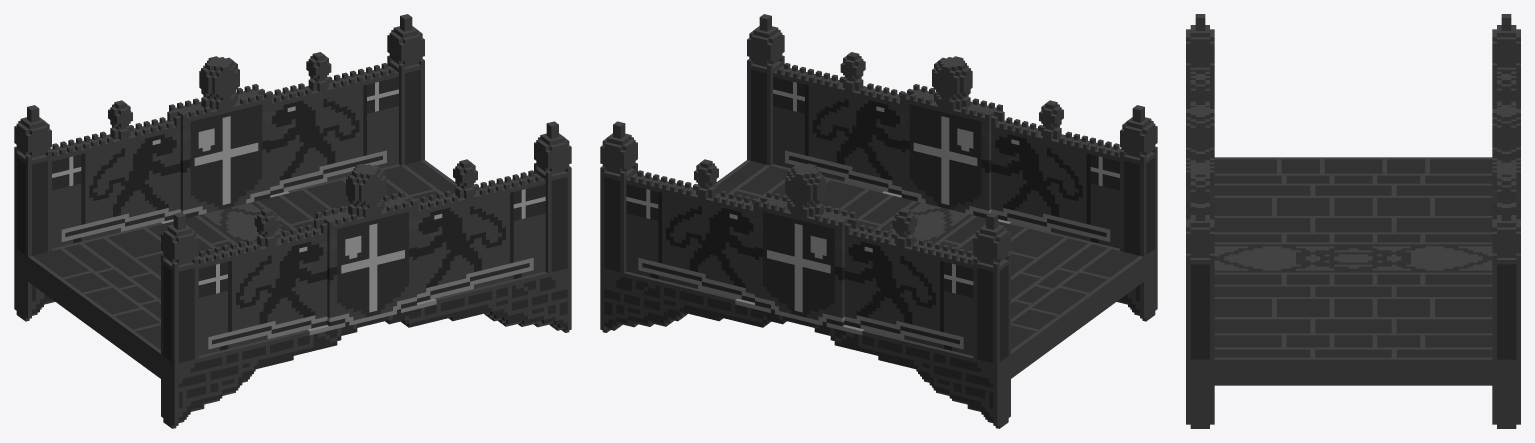
The model's file is stone bridge.obj.
3 views of the same model, side by side, from view 1: azimuth 30°, elevation 25°; view 2: azimuth 150°, elevation 25°; view 3: azimuth 270°, elevation 25° (orthographic). The views are drawn at different scales.
Bounding box in the file's own units: 10 × 5 × 7.
1 material, 1 textured.
